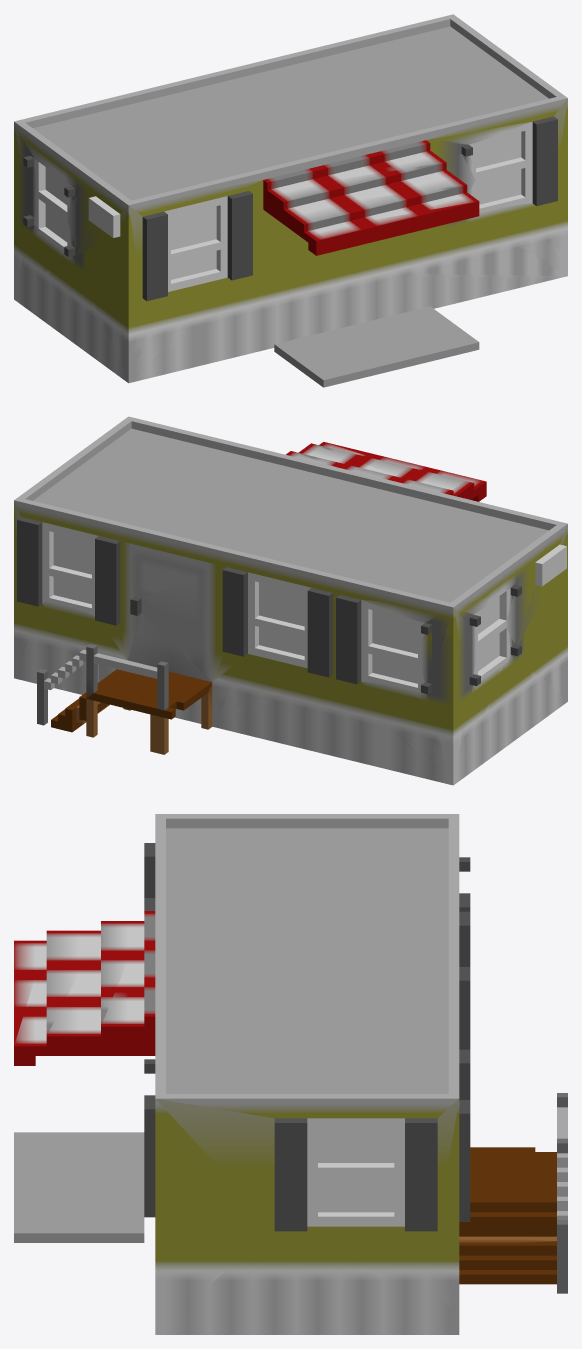
Rendered from obj_house6a.fbx.
The picture shows the model from 3 angles, top to bottom: view 1: azimuth 30°, elevation 25°; view 2: azimuth 150°, elevation 25°; view 3: azimuth 270°, elevation 25°; orthographic projection. The views are drawn at different scales.
Visible parts, largest first — view 1: obj_house6a; view 2: obj_house6a; view 3: obj_house6a.
Boxes of the visible parts, x1=… form: obj_house6a: x1=14, y1=14, x2=567, y2=387; obj_house6a: x1=14, y1=416, x2=567, y2=785; obj_house6a: x1=14, y1=814, x2=567, y2=1334.
Bounding box in the file's own units: 6.4 × 5.1 × 2.4.
1 material, 1 textured.
